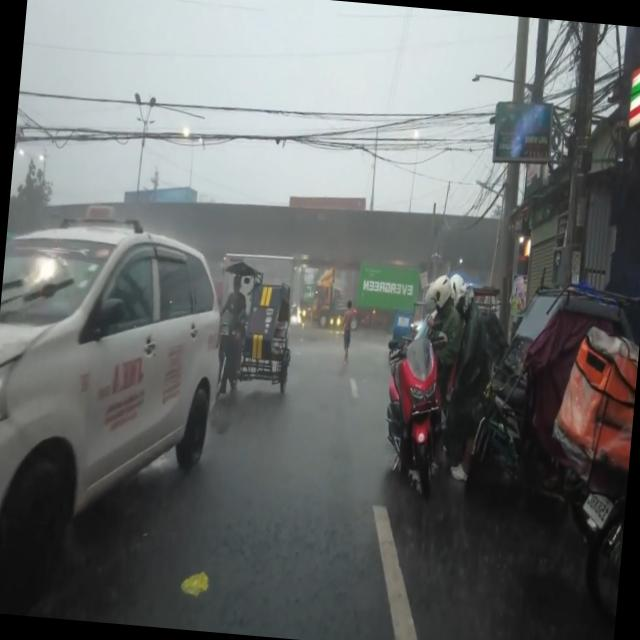full: (452, 278, 476, 318)
half: (422, 270, 453, 320)
